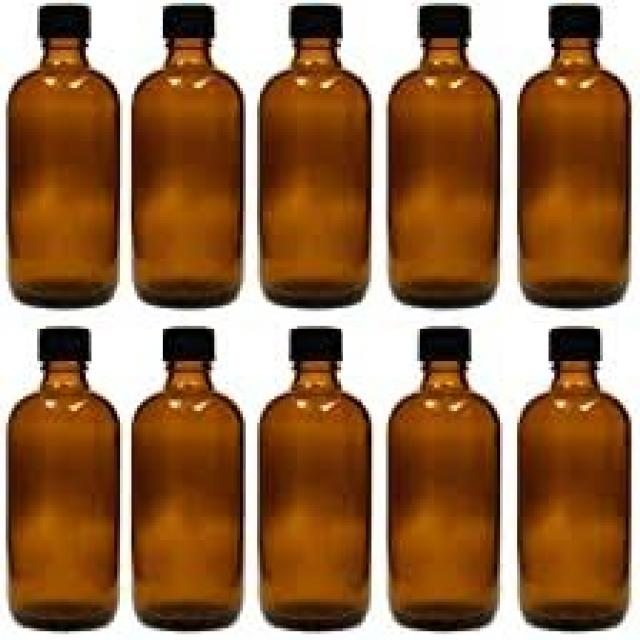Glass: (382, 0, 507, 312), (128, 0, 250, 311), (4, 0, 126, 311), (253, 0, 375, 309), (126, 324, 248, 632), (256, 324, 377, 631), (513, 0, 633, 309), (2, 322, 121, 633), (513, 323, 632, 632), (383, 322, 502, 630)
